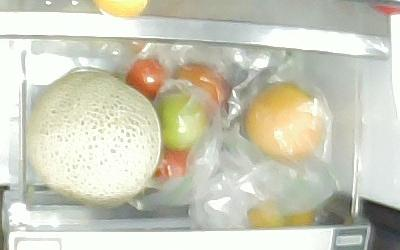melon: (27, 68, 162, 206)
pear_vinyl: (246, 82, 323, 160)
prune_vinyl: (172, 64, 233, 117)
tangerine_vinyl: (247, 199, 282, 227), (280, 207, 315, 227)
tomato_vinyl: (152, 92, 211, 151), (124, 58, 169, 100), (155, 147, 191, 181)
